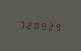nine: (39, 19, 45, 31), (53, 20, 59, 32)
seven: (17, 18, 23, 29)
two: (24, 18, 30, 30), (46, 20, 52, 31)
zero: (32, 19, 38, 30)
